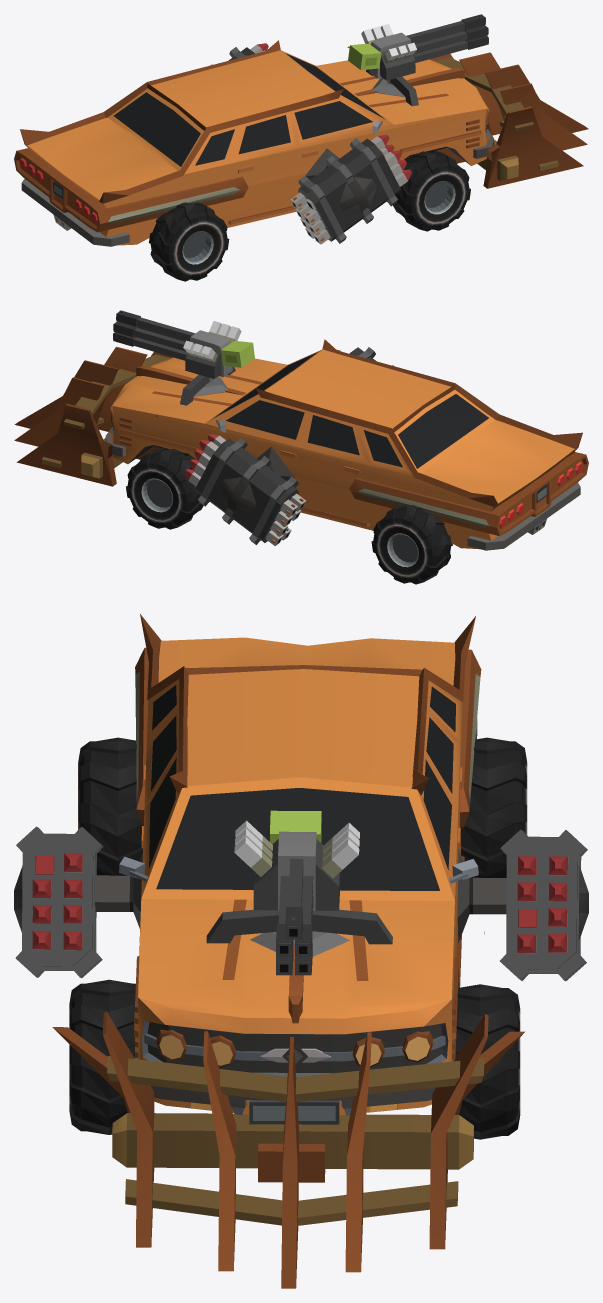
Rendered from car_(2).fbx.
The picture shows the model from 3 angles, top to bottom: view 1: azimuth 30°, elevation 25°; view 2: azimuth 150°, elevation 25°; view 3: azimuth 270°, elevation 25°; orthographic projection. The views are drawn at different scales.
Visible parts, largest first — view 1: Car.001_Circle.000_Glass_0.001, Car.001_Circle.000_Glass_0.002, gun, Wheel_FR_5_Eagle_0.006, Wheel_FR_5_Eagle_0.005; view 2: Car.001_Circle.000_Glass_0.001, Car.001_Circle.000_Glass_0.002, gun, Wheel_FR_5_Eagle_0.008, Wheel_FR_5_Eagle_0.007; view 3: Car.001_Circle.000_Glass_0.001, Car.001_Circle.000_Glass_0.002, gun, Wheel_FR_5_Eagle_0.008, Wheel_FR_5_Eagle_0.006, Wheel_FR_5_Eagle_0.007, Wheel_FR_5_Eagle_0.005.
Part boxes in pixels (bbox=[...]): Car.001_Circle.000_Glass_0.001: bbox=[14, 40, 493, 246]; Car.001_Circle.000_Glass_0.002: bbox=[430, 52, 588, 188]; gun: bbox=[348, 14, 488, 80]; Wheel_FR_5_Eagle_0.006: bbox=[149, 202, 229, 281]; Wheel_FR_5_Eagle_0.005: bbox=[393, 150, 470, 231]; Car.001_Circle.000_Glass_0.001: bbox=[105, 339, 588, 550]; Car.001_Circle.000_Glass_0.002: bbox=[14, 346, 172, 486]; gun: bbox=[113, 310, 254, 378]; Wheel_FR_5_Eagle_0.008: bbox=[371, 505, 452, 584]; Wheel_FR_5_Eagle_0.007: bbox=[126, 447, 203, 529]; Car.001_Circle.000_Glass_0.001: bbox=[14, 614, 588, 1182]; Car.001_Circle.000_Glass_0.002: bbox=[52, 1011, 524, 1288]; gun: bbox=[234, 810, 359, 975]; Wheel_FR_5_Eagle_0.008: bbox=[461, 737, 527, 877]; Wheel_FR_5_Eagle_0.006: bbox=[78, 737, 143, 875]; Wheel_FR_5_Eagle_0.007: bbox=[455, 984, 520, 1139]; Wheel_FR_5_Eagle_0.005: bbox=[69, 979, 135, 1134].
Size of the model in its own units: 476 by 133 by 230.
5 materials, 5 textured.
